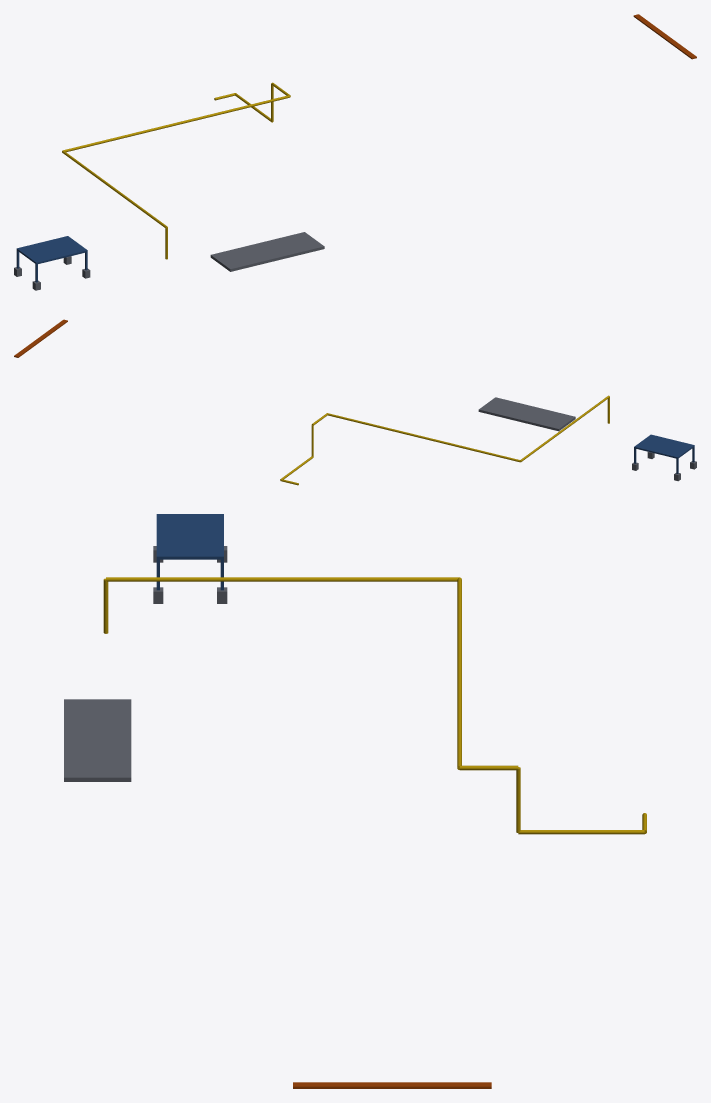
The model's file is sample-contractor-model.glb.
3 renders of one model, top to bottom at view 1: azimuth 30°, elevation 25°; view 2: azimuth 150°, elevation 25°; view 3: azimuth 270°, elevation 25°, orthographic. The views are drawn at different scales.
Visible parts, largest first — view 1: FDN-P-301 SLAB CONCRETE, STR-PF-01 DECK, PIPE 10in P-1001-A1 SEG-03; view 2: FDN-P-301 SLAB CONCRETE, STR-PF-01 DECK, PIPE 10in P-1001-A1 SEG-03, CT-600 MCC-CR CABLE TRAY, PIPE 10in P-1001-A1 SEG-02; view 3: FDN-P-301 SLAB CONCRETE, STR-PF-01 DECK, PIPE 10in P-1001-A1 SEG-02, CT-600 MCC-CR CABLE TRAY, PIPE 10in P-1001-A1 SEG-03.
Boxes of the visible parts, x1=… form: FDN-P-301 SLAB CONCRETE: x1=210, y1=232, x2=324, y2=271; STR-PF-01 DECK: x1=16, y1=236, x2=87, y2=264; PIPE 10in P-1001-A1 SEG-03: x1=63, y1=95, x2=290, y2=152; FDN-P-301 SLAB CONCRETE: x1=478, y1=397, x2=575, y2=431; STR-PF-01 DECK: x1=634, y1=434, x2=694, y2=458; PIPE 10in P-1001-A1 SEG-03: x1=327, y1=413, x2=520, y2=462; CT-600 MCC-CR CABLE TRAY: x1=14, y1=319, x2=67, y2=357; PIPE 10in P-1001-A1 SEG-02: x1=520, y1=395, x2=609, y2=461; FDN-P-301 SLAB CONCRETE: x1=64, y1=699, x2=131, y2=781; STR-PF-01 DECK: x1=156, y1=514, x2=223, y2=559; PIPE 10in P-1001-A1 SEG-02: x1=106, y1=577, x2=458, y2=581; CT-600 MCC-CR CABLE TRAY: x1=293, y1=1082, x2=491, y2=1088; PIPE 10in P-1001-A1 SEG-03: x1=457, y1=577, x2=461, y2=769.
Bounding box in the file's own units: 82100 × 5486 × 34636.
